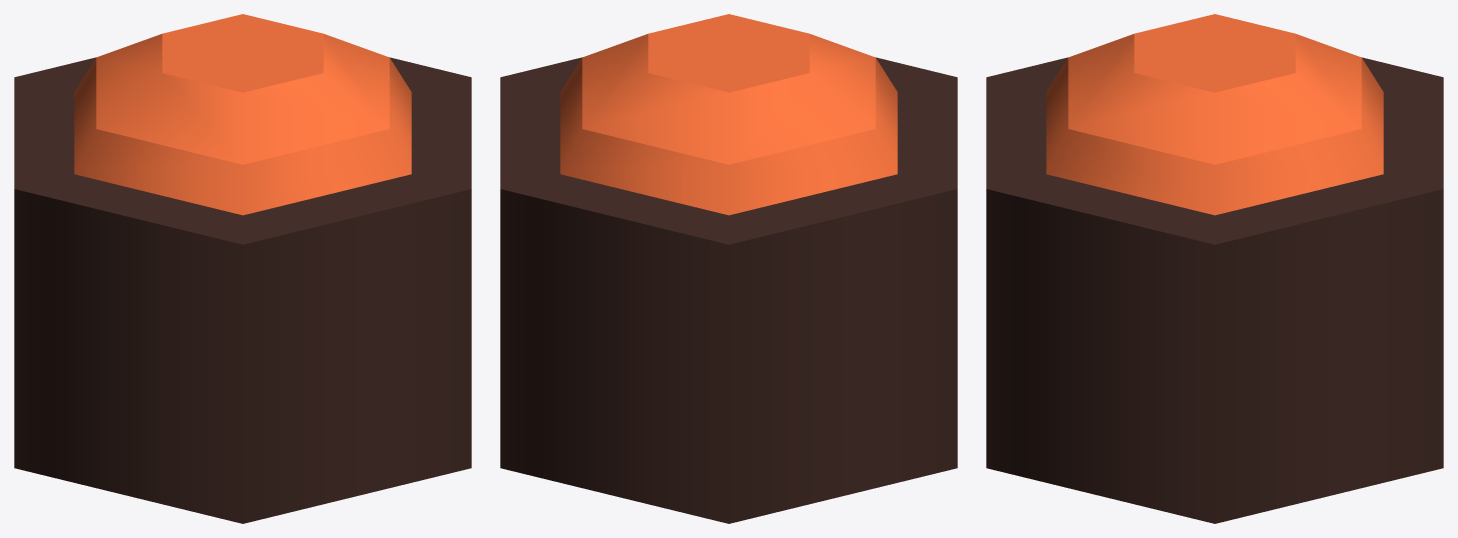
Rendered from makiRoe.GLB.
The picture shows the model from 3 angles, left to right: view 1: azimuth 30°, elevation 25°; view 2: azimuth 150°, elevation 25°; view 3: azimuth 270°, elevation 25°; orthographic projection.
Visible parts, largest first — view 1: makiRoe; view 2: makiRoe; view 3: makiRoe.
Part boxes in pixels (x1,y1,x2,y2): makiRoe: (14,14,471,523); makiRoe: (500,14,957,523); makiRoe: (986,14,1443,523).
Size of the model in its own units: 0.12 by 0.09 by 0.1039.
